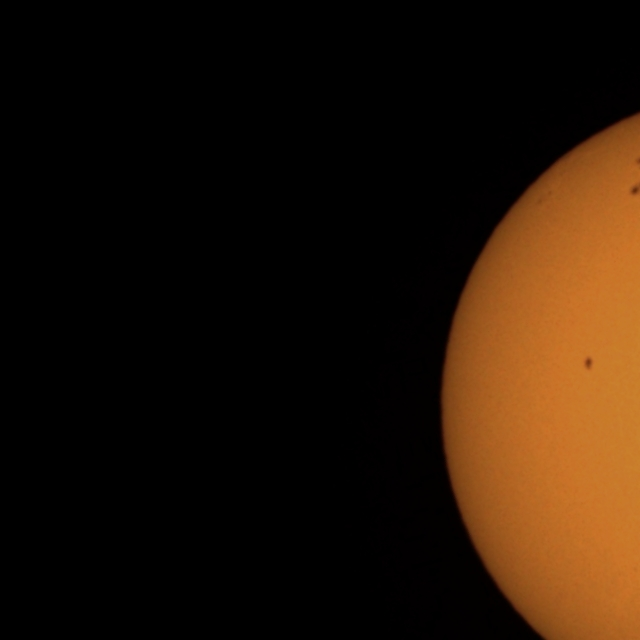sunspot: (628, 181, 640, 198), (582, 355, 594, 372), (634, 155, 640, 168)
